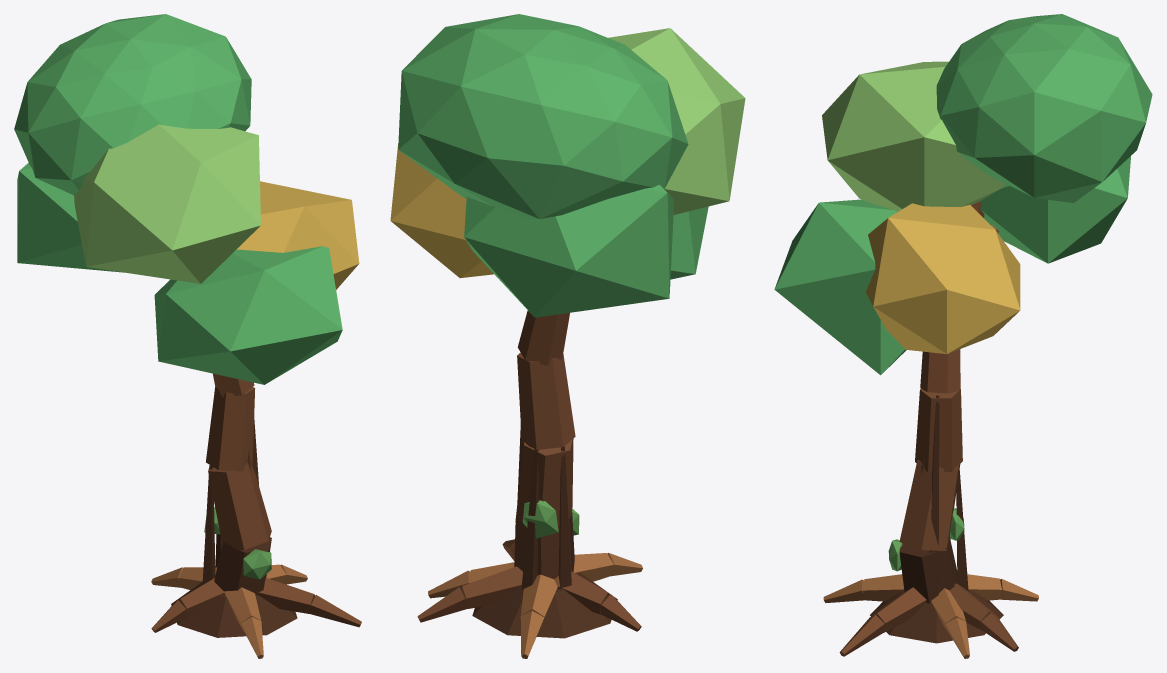
File: tree_crooked_a.glb
The picture shows the model from 3 angles, left to right: view 1: azimuth 30°, elevation 25°; view 2: azimuth 150°, elevation 25°; view 3: azimuth 270°, elevation 25°; orthographic projection. The views are drawn at different scales.
Visible parts, largest first — view 1: TreeCrookedA; view 2: TreeCrookedA; view 3: TreeCrookedA.
Part boxes in pixels (box(x1,y1,x2,y2)): TreeCrookedA: box(14, 14, 361, 658); TreeCrookedA: box(390, 14, 745, 658); TreeCrookedA: box(774, 14, 1152, 658).
Size of the model in its own units: 5.44 by 10.09 by 6.08.
